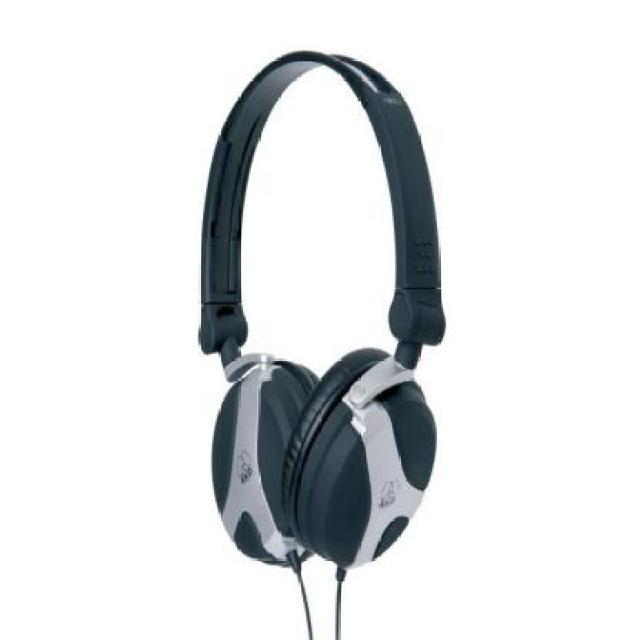earphone: (180, 41, 470, 576)
